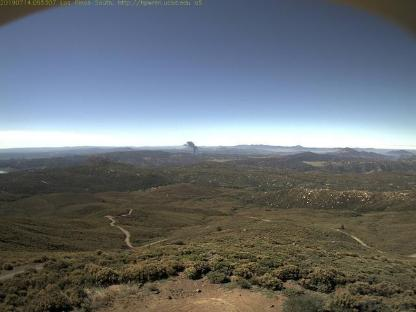smoke: (182, 139, 200, 155)
